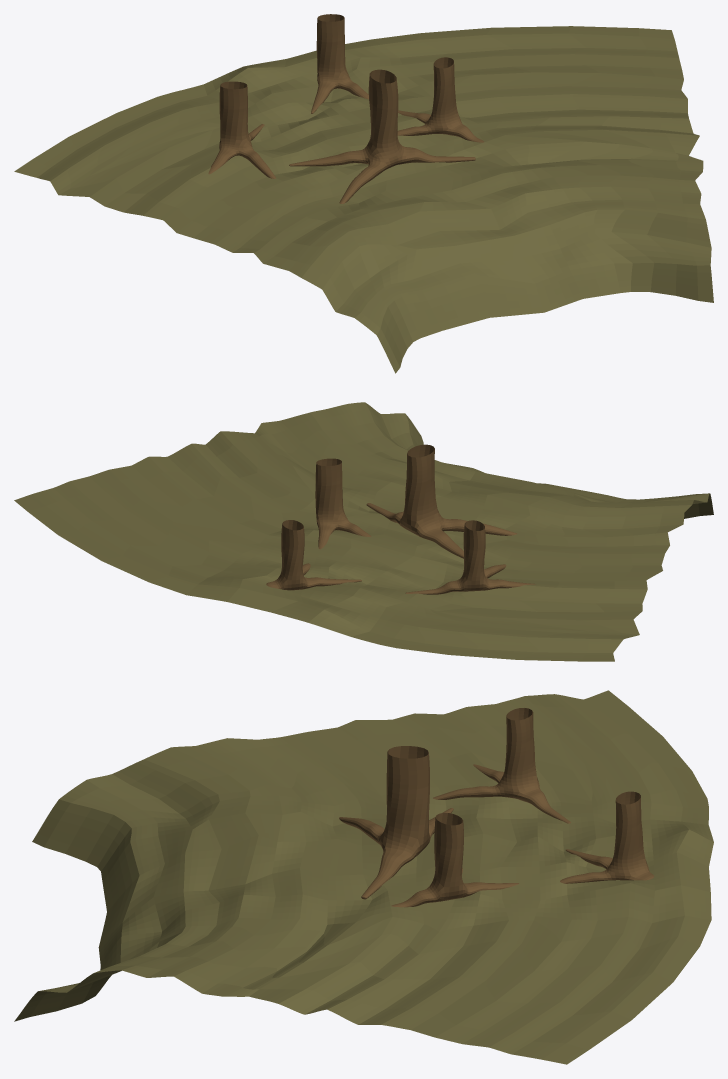
The model's file is VEG_suelo&arboles.fbx.
3 renders of one model, top to bottom at view 1: azimuth 30°, elevation 25°; view 2: azimuth 150°, elevation 25°; view 3: azimuth 270°, elevation 25°, orthographic. The views are drawn at different scales.
Visible parts, largest first — view 1: Suelo, ArbolPrincipal, Arbol_de_fondo_01, Arbol_de_fondo_03, Arbol_de_fondo_02; view 2: Suelo, ArbolPrincipal, Arbol_de_fondo_01, Arbol_de_fondo_02, Arbol_de_fondo_03; view 3: Suelo, ArbolPrincipal, Arbol_de_fondo_01, Arbol_de_fondo_03, Arbol_de_fondo_02.
Part boxes in pixels (<box>): Suelo: <box>14,26,713,373</box>; ArbolPrincipal: <box>289,69,475,203</box>; Arbol_de_fondo_01: <box>208,81,275,178</box>; Arbol_de_fondo_03: <box>311,14,368,113</box>; Arbol_de_fondo_02: <box>397,57,484,142</box>; Suelo: <box>14,402,713,661</box>; ArbolPrincipal: <box>366,444,517,558</box>; Arbol_de_fondo_01: <box>405,520,535,594</box>; Arbol_de_fondo_02: <box>315,458,371,549</box>; Arbol_de_fondo_03: <box>266,520,361,590</box>; Suelo: <box>14,690,713,1064</box>; ArbolPrincipal: <box>339,746,453,899</box>; Arbol_de_fondo_01: <box>433,708,570,823</box>; Arbol_de_fondo_03: <box>560,791,654,883</box>; Arbol_de_fondo_02: <box>391,813,519,907</box>.
Bounding box in the file's own units: 931 × 207 × 740.
